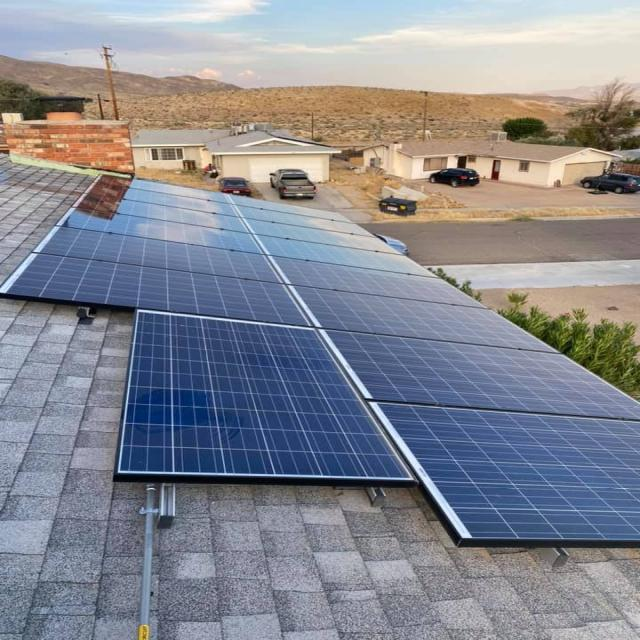dust-solar-panel: (0, 226, 640, 542)
